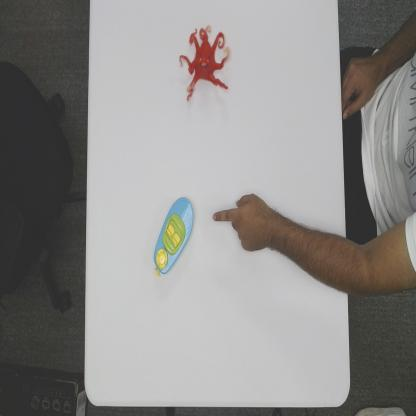Arm: (272, 207, 416, 300)
Boat: (152, 194, 195, 278)
Hand: (211, 188, 272, 256)
Octopus: (178, 22, 232, 104)
